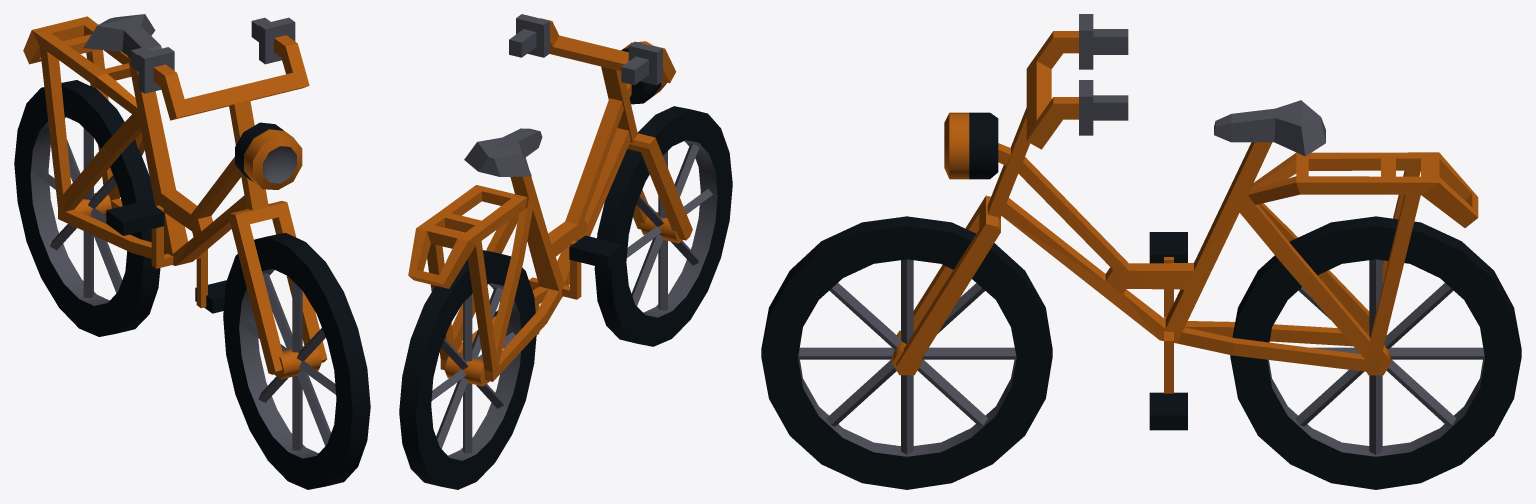
File: Bicycle.fbx
The picture shows the model from 3 angles, left to right: view 1: azimuth 30°, elevation 25°; view 2: azimuth 150°, elevation 25°; view 3: azimuth 270°, elevation 25°; orthographic projection. The views are drawn at different scales.
Visible parts, largest first — view 1: Bicycle; view 2: Bicycle; view 3: Bicycle.
Part boxes in pixels (x1=…): Bicycle: x1=14, y1=14, x2=370, y2=489; Bicycle: x1=399, y1=14, x2=732, y2=489; Bicycle: x1=761, y1=14, x2=1521, y2=489.
Size of the model in its own units: 22.26 by 53.99 by 86.57.
